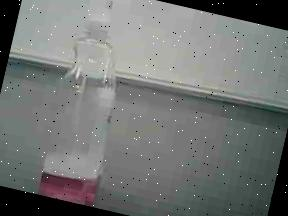hazard: (24, 0, 155, 210)
